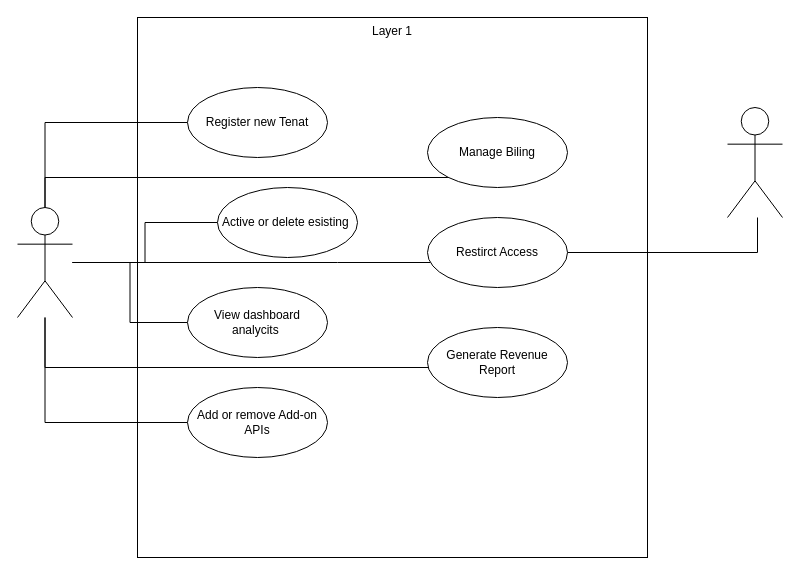
Some shapes in this 800 by 575 pixel diagram are drawn without their labels. The shapes that lost their labels are listed below. From the top down, each one's centre as x and y in pixels, then its label:
At point (754, 162): "System".
At point (44, 262): "Admin".
